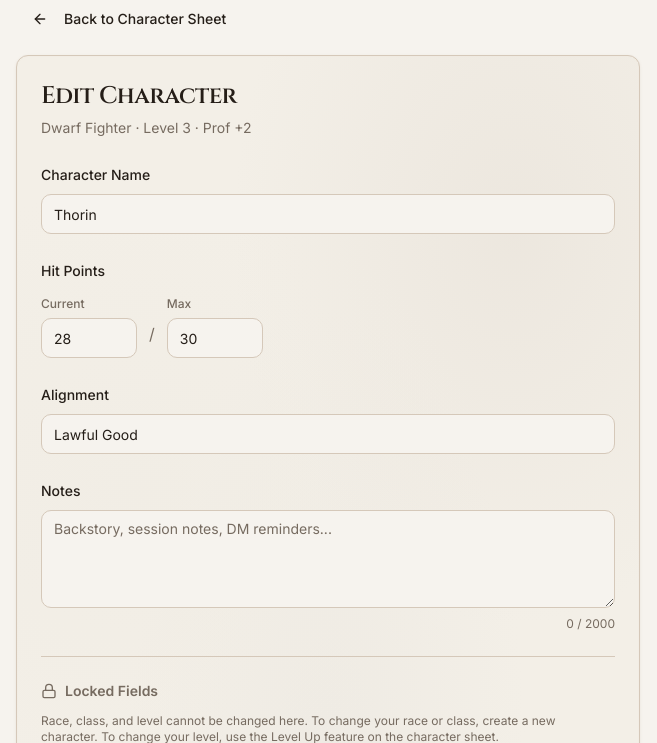
Test case: EditCharacter › validates empty name
Step 1. Clear the field labelled "Character Name" → (328,214), box [41,194,615,234]
(page scrolled)
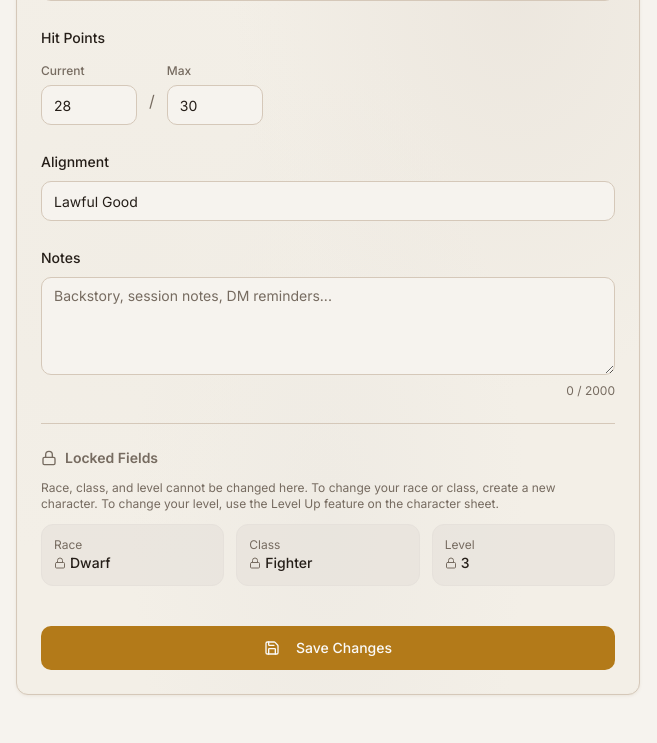
Step 2. Click the button "Save Changes" → (328,648), box [41,626,615,670]
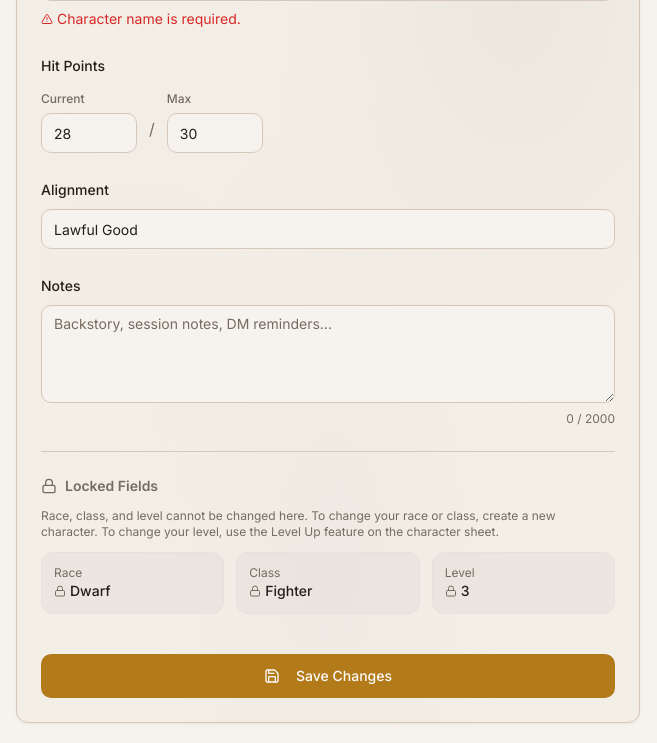
Check: the text "Character name is required." is shown, box [41,10,241,27]
